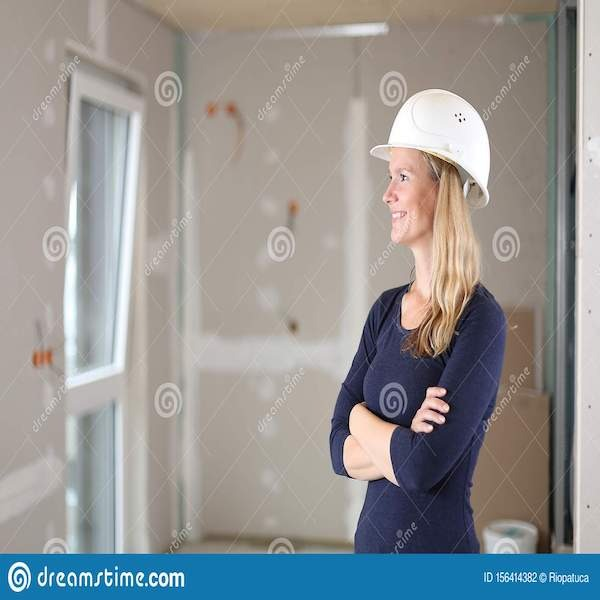helmet: (373, 89, 492, 159)
